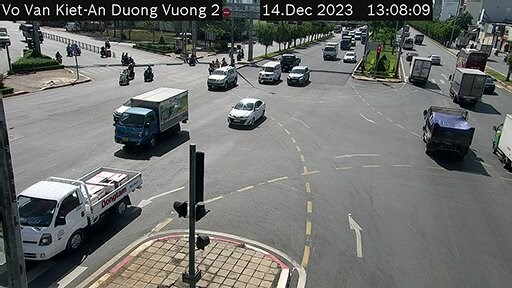car: (231, 96, 264, 137), (206, 63, 240, 95), (288, 64, 313, 88), (261, 58, 280, 84), (347, 48, 359, 66)
truck: (3, 174, 146, 262), (114, 80, 194, 156), (426, 103, 477, 150), (447, 66, 491, 104), (410, 53, 435, 86), (500, 110, 510, 175), (322, 40, 339, 60), (280, 52, 300, 68)
